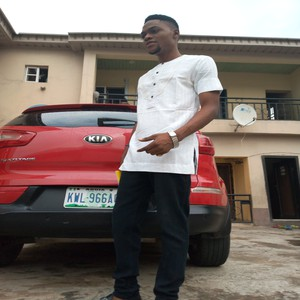Fulokoja_male_student: (133, 15, 211, 248)
